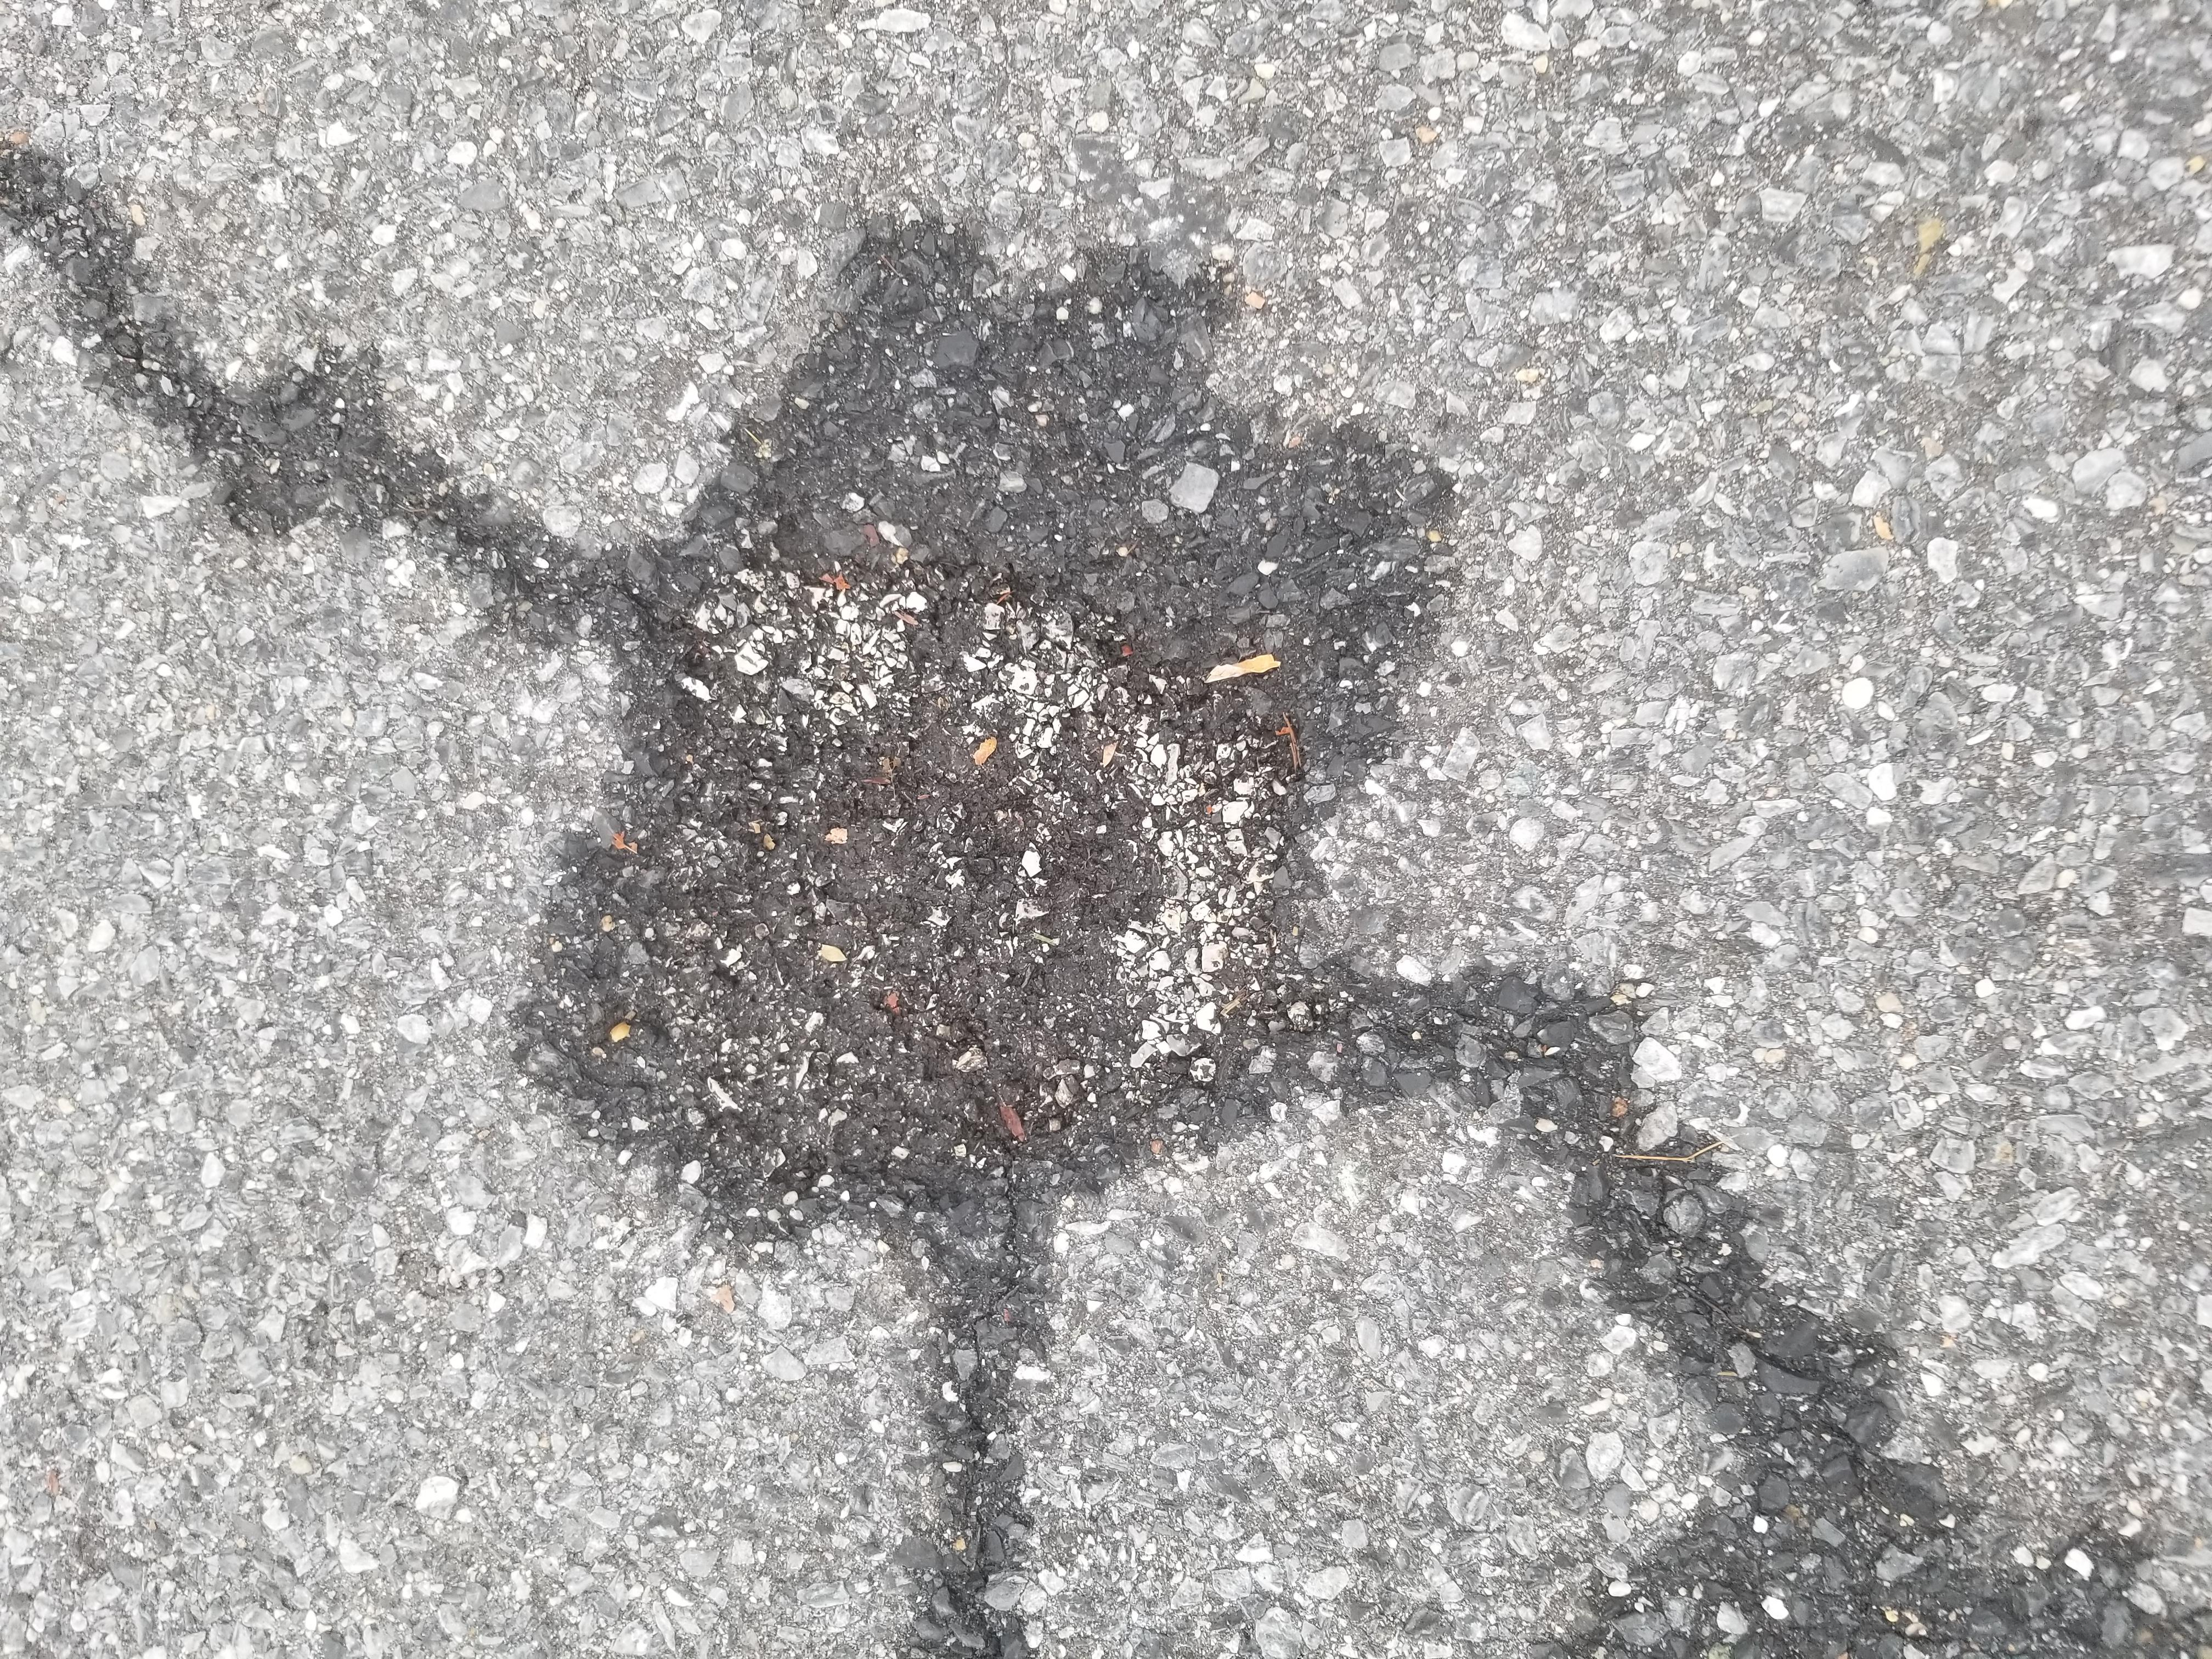crack: (124, 0, 883, 713), (1622, 995, 2212, 1584), (1115, 0, 1320, 446)
pothole: (780, 418, 1656, 1443)
